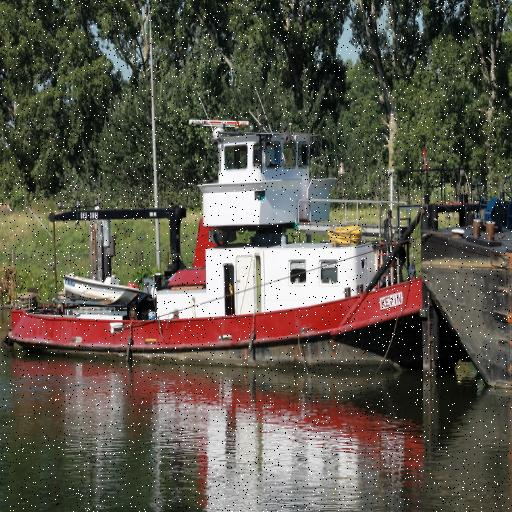tugboat: (1, 116, 500, 385)
